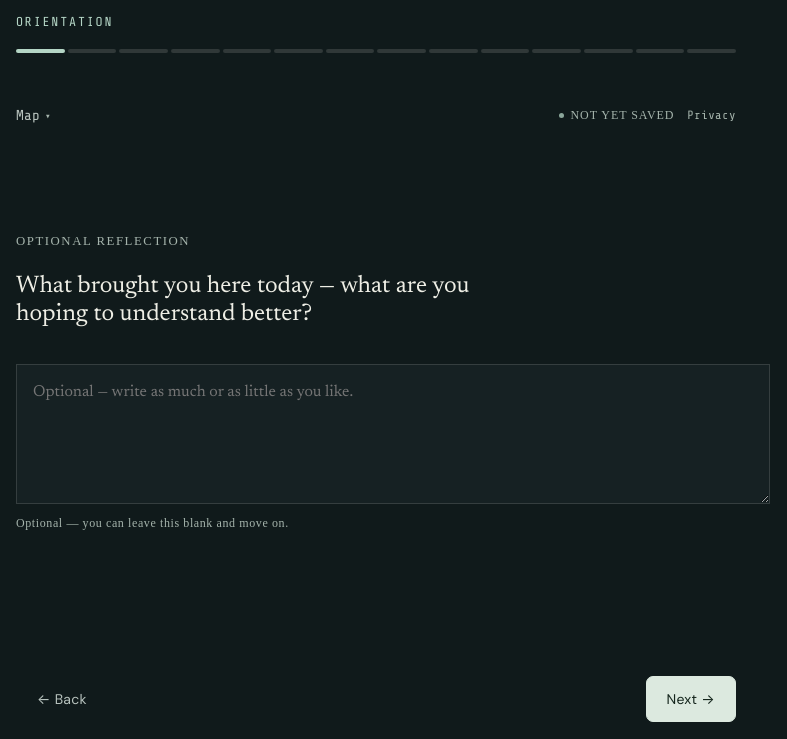
it: tapping Next/Back › tapping Back returns to the previous item
(page scrolled)
Check: the text box with placeholder "Optional — write as much or as little as you like." is shown, box [16,364,770,504]
Click the button "Next →" at {"x": 691, "y": 699}, box [646,676,736,722]
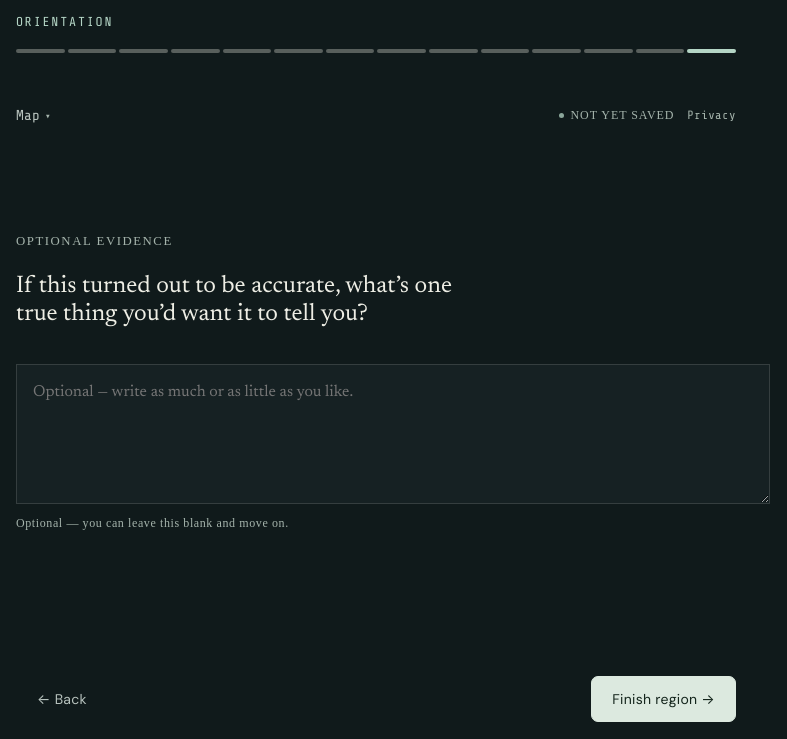
Check: the text "Optional evidence" is shown, box [16,234,173,248]
Click the button "← Back" at {"x": 62, "y": 699}, box [16,676,108,722]
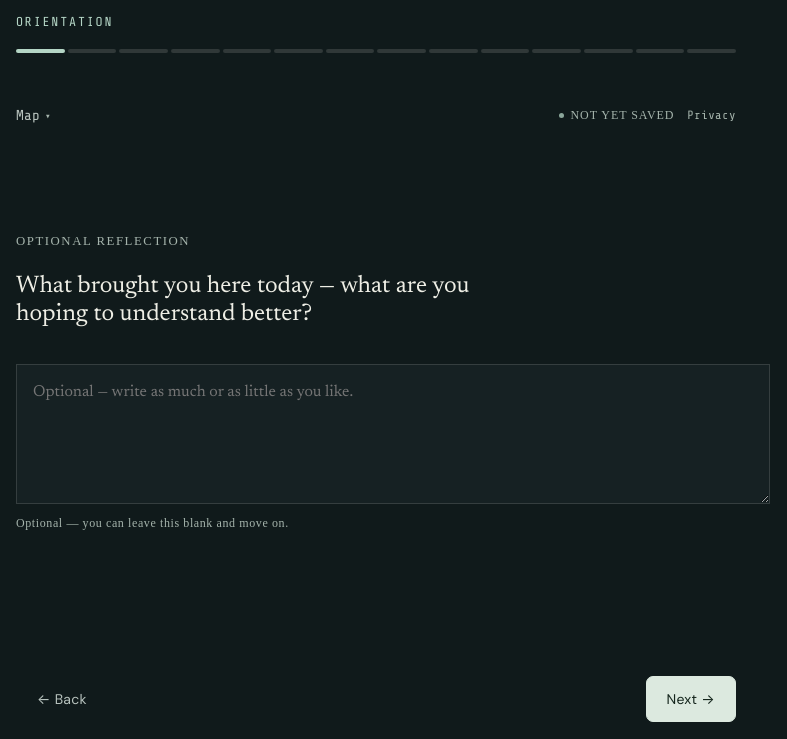
Check: the text "Optional reflection" is shown, box [16,234,190,248]
